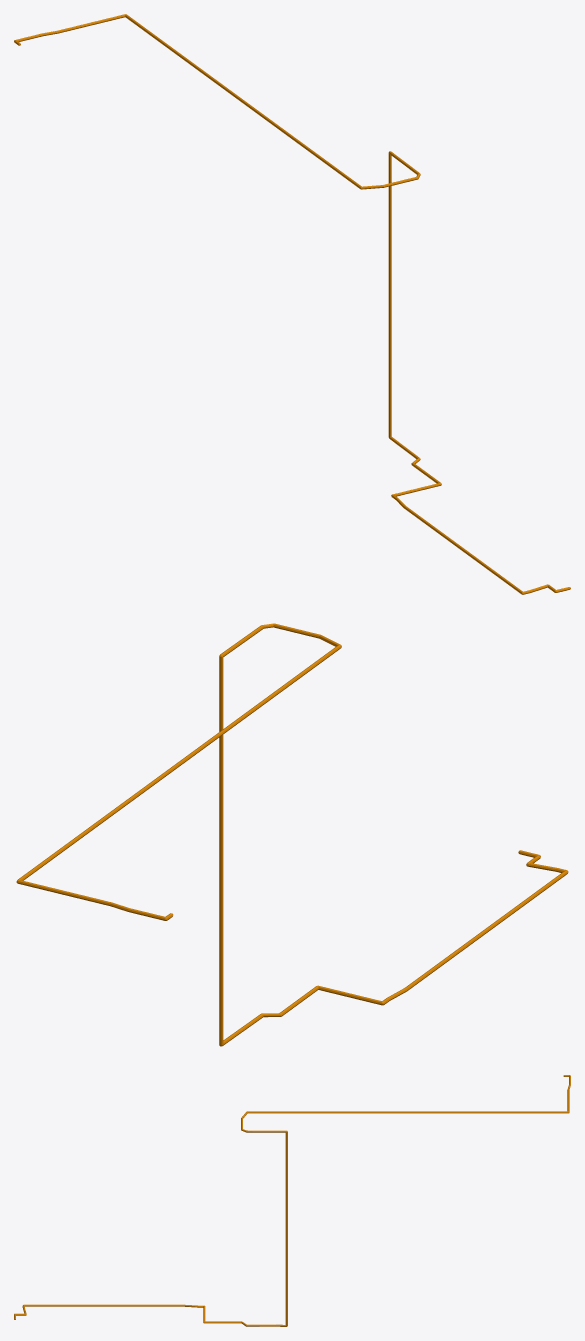
3 views of the same model, one above another, from view 1: azimuth 30°, elevation 25°; view 2: azimuth 150°, elevation 25°; view 3: azimuth 270°, elevation 25° (orthographic). The views are drawn at different scales.
Bounding box in the file's own units: 1248 × 2020 × 5200.
